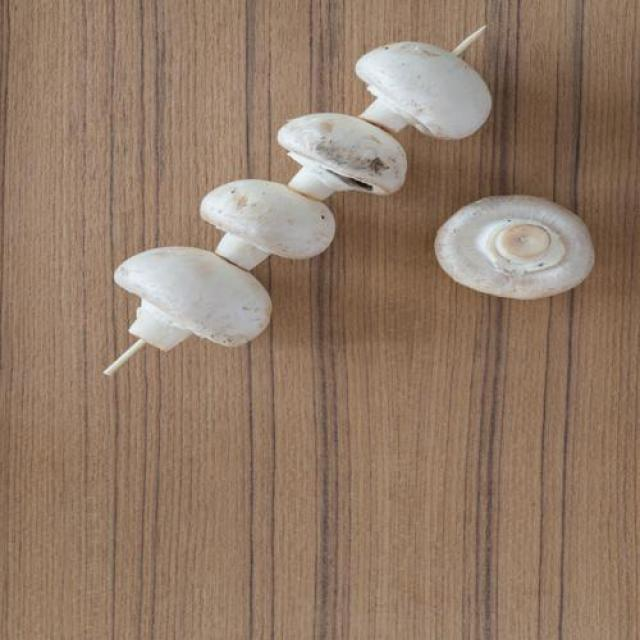Agaricus bisporus: (113, 245, 281, 369), (433, 191, 591, 309), (272, 114, 405, 217), (358, 42, 488, 146), (200, 178, 330, 274)
